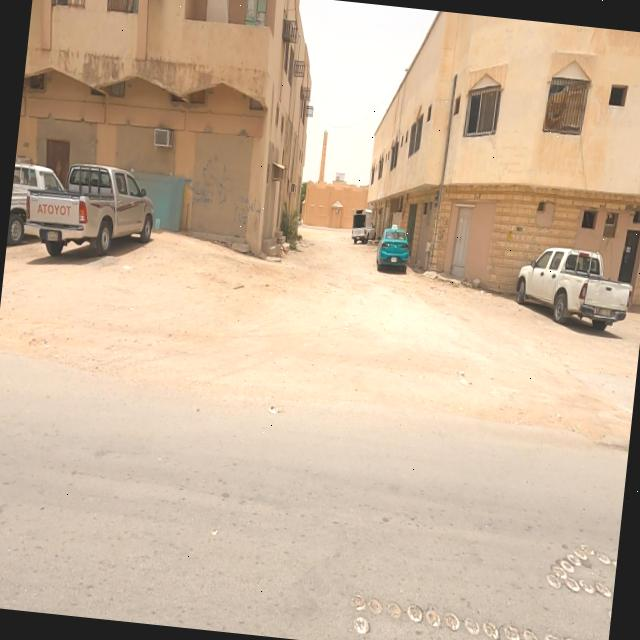Graffiti: (194, 157, 232, 208), (232, 192, 263, 226)
